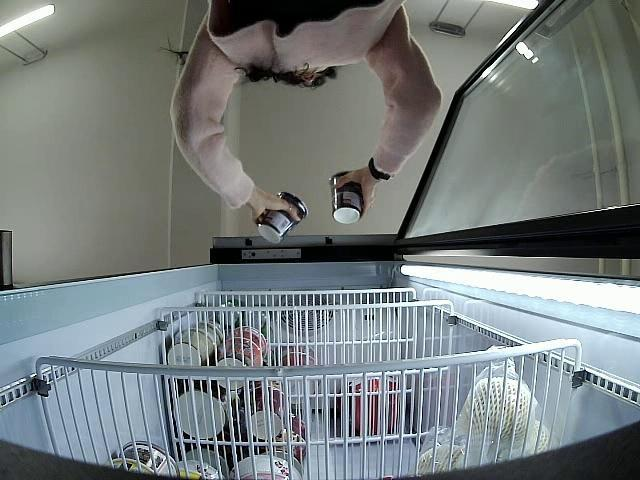08_buldak_S: (259, 188, 307, 244), (327, 170, 364, 225)
